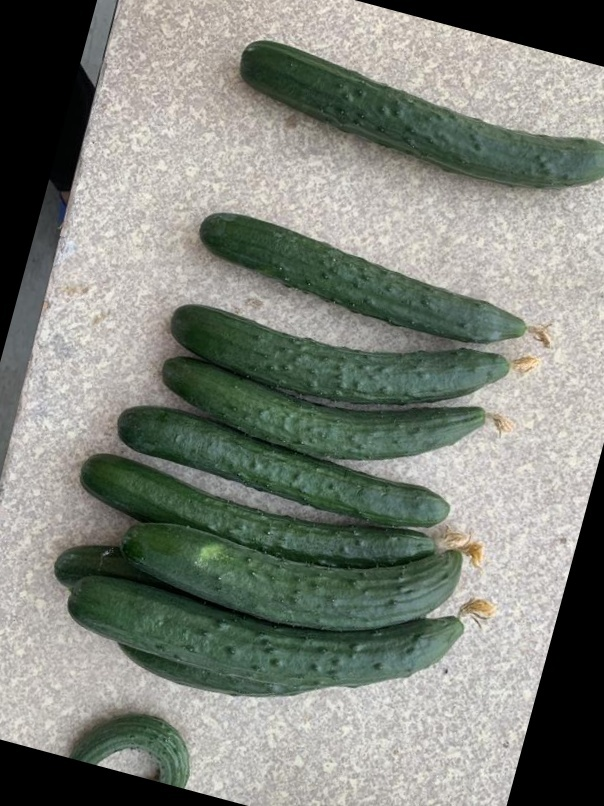mature: (239, 32, 601, 189), (80, 449, 444, 578), (199, 206, 530, 342), (111, 399, 448, 529), (65, 572, 459, 682), (113, 518, 466, 631), (156, 350, 482, 460), (170, 298, 506, 404)
